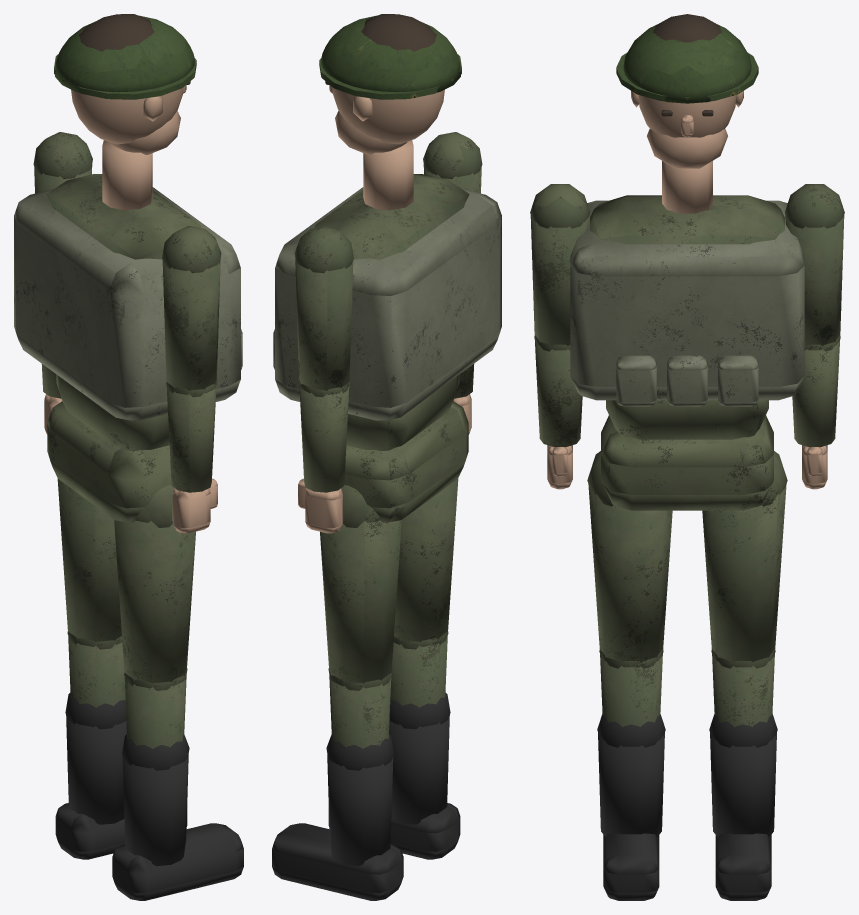
The model's file is char_guard.gltf.
The picture shows the model from 3 angles, left to right: view 1: azimuth 30°, elevation 25°; view 2: azimuth 150°, elevation 25°; view 3: azimuth 270°, elevation 25°; orthographic projection.
Visible parts, largest first — view 1: box.012, cyl.009, box, cyl.006, blob.005, cyl.004, box.002, box.011, cyl.011, cyl.008, cyl.005, blob (+15 smaller); view 2: box.012, cyl.006, box, cyl.009, blob.005, cyl.002, box.002, box.010, cyl.008, cyl.011, cyl.003, blob (+15 smaller); view 3: box.012, box, cyl.006, cyl.009, box.002, blob.005, cyl.008, cyl.011, box.001, cyl.002, cyl.004, cyl.003 (+19 smaller).
Part boxes in pixels (x1=…): box.012: x1=14, y1=187, x2=240, y2=420; cyl.009: x1=114, y1=520, x2=195, y2=683; box: x1=47, y1=401, x2=171, y2=522; cyl.006: x1=57, y1=478, x2=121, y2=642; blob.005: x1=55, y1=15, x2=194, y2=92; cyl.004: x1=162, y1=259, x2=220, y2=390; box.002: x1=46, y1=174, x2=201, y2=259; box.011: x1=112, y1=823, x2=243, y2=900; cyl.011: x1=122, y1=755, x2=188, y2=866; cyl.008: x1=66, y1=715, x2=126, y2=824; cyl.005: x1=166, y1=385, x2=216, y2=492; blob: x1=71, y1=87, x2=183, y2=144; box.012: x1=275, y1=187, x2=501, y2=420; cyl.006: x1=320, y1=520, x2=401, y2=683; box: x1=344, y1=401, x2=468, y2=522; cyl.009: x1=394, y1=478, x2=458, y2=642; blob.005: x1=321, y1=15, x2=460, y2=92; cyl.002: x1=295, y1=259, x2=353, y2=390; box.002: x1=314, y1=174, x2=469, y2=259; box.010: x1=272, y1=823, x2=403, y2=900; cyl.008: x1=327, y1=755, x2=393, y2=866; cyl.011: x1=389, y1=715, x2=449, y2=824; cyl.003: x1=299, y1=385, x2=349, y2=492; blob: x1=332, y1=87, x2=444, y2=144; box.012: x1=570, y1=200, x2=804, y2=400; box: x1=601, y1=415, x2=773, y2=510; cyl.006: x1=702, y1=484, x2=786, y2=662; cyl.009: x1=588, y1=484, x2=672, y2=662; box.002: x1=590, y1=195, x2=784, y2=244; blob.005: x1=623, y1=25, x2=751, y2=103; cyl.008: x1=710, y1=733, x2=776, y2=836; cyl.011: x1=598, y1=733, x2=664, y2=836; box.001: x1=606, y1=400, x2=768, y2=439; cyl.002: x1=785, y1=215, x2=844, y2=346; cyl.004: x1=530, y1=215, x2=589, y2=346; cyl.003: x1=792, y1=339, x2=840, y2=446.
Size of the model in its own units: 0.3318 by 1.83 by 0.6183.
Materials: 6 (3 with a texture image).
